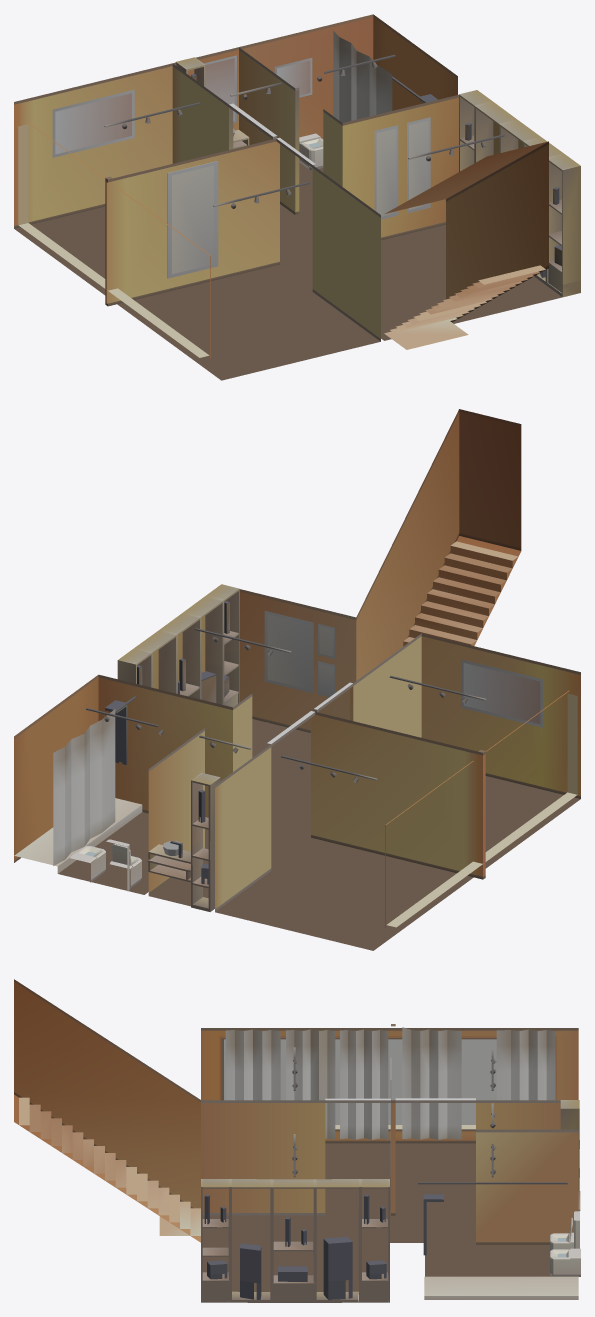
File: room2.glb
The picture shows the model from 3 angles, top to bottom: view 1: azimuth 30°, elevation 25°; view 2: azimuth 150°, elevation 25°; view 3: azimuth 270°, elevation 25°; orthographic projection. The views are drawn at different scales.
Visible parts, largest first — view 1: walls_room_2; view 2: walls_room_2; view 3: walls_room_2.
Boxes of the visible parts, x1,y1,x2,y2 form: walls_room_2: (14, 14, 580, 380); walls_room_2: (14, 409, 580, 950); walls_room_2: (14, 979, 580, 1302).
Size of the model in its own units: 165 by 111 by 240.
